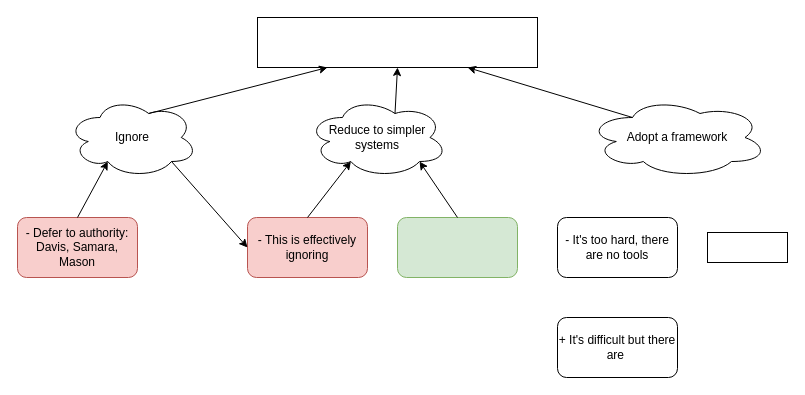
Some shapes in this 805 by 395 pixel diagram are drawn without their labels. The shapes that lost their labels are listed below. From the top down, each one's box as (x1, y1, x2, y2) in pixels, then its label:
(256, 16, 538, 68): How should we approach complexity in Learning Analytics (LA)?
(396, 216, 518, 278): + Analysis can be done and understood / communicated
(706, 232, 788, 262): What framework?
